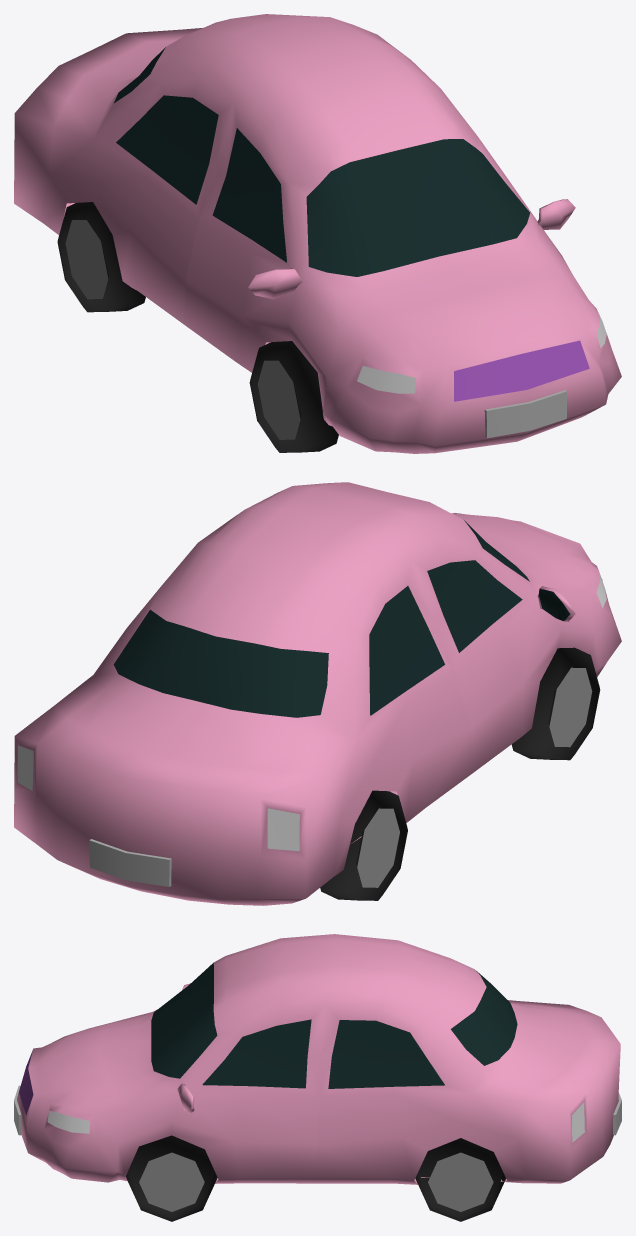
File: car.fbx
3 views of the same model, one above another, from view 1: azimuth 30°, elevation 25°; view 2: azimuth 150°, elevation 25°; view 3: azimuth 270°, elevation 25° (orthographic). The views are drawn at different scales.
Visible parts, largest first — view 1: Cube; view 2: Cube; view 3: Cube.
Part boxes in pixels (x1,y1,x2,y2): Cube: (14,14,621,453); Cube: (14,482,621,905); Cube: (14,934,621,1221).
Bounding box in the file's own units: 112 × 95.22 × 240.
